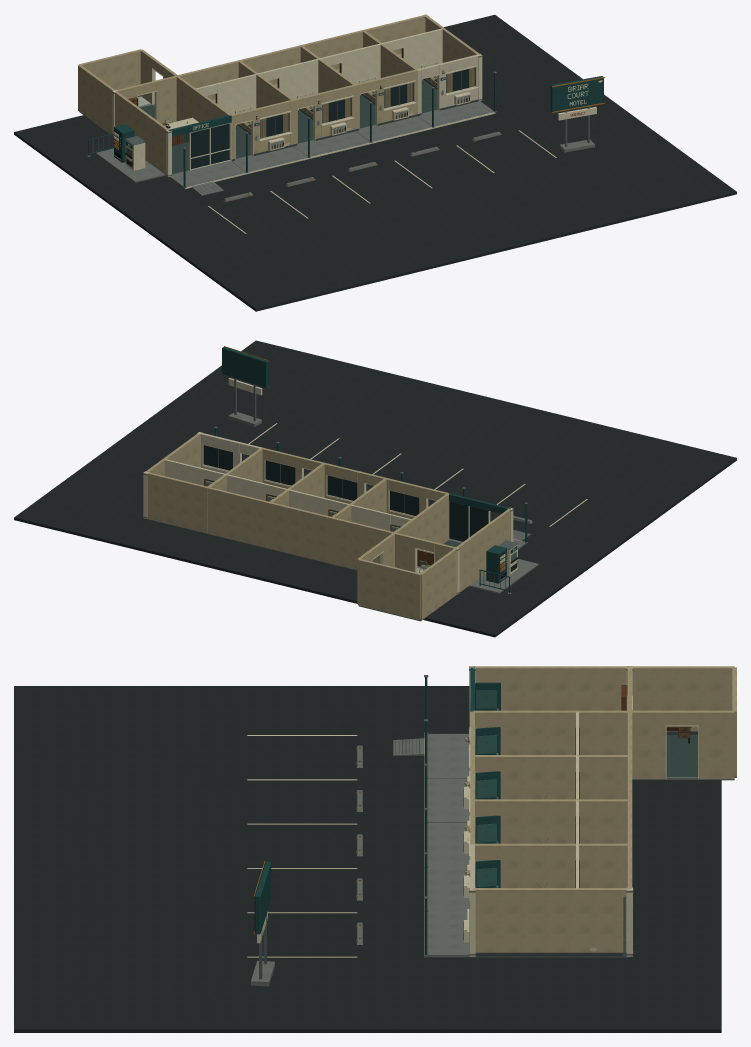
Rendered from motel_example_cutaway.glb.
The picture shows the model from 3 angles, top to bottom: view 1: azimuth 30°, elevation 25°; view 2: azimuth 150°, elevation 25°; view 3: azimuth 270°, elevation 25°; orthographic projection. The views are drawn at different scales.
Visible parts, largest first — view 1: SITE_asphalt_court, INSTANCE__roadside_sign__139, INSTANCE__lobby_glazed_facade__005, INSTANCE__end_wall_6m__103, INSTANCE__solid_wall_4m__129, INSTANCE__room_facade_4m__012, INSTANCE__room_facade_4m__036, INSTANCE__room_facade_4m__060, INSTANCE__solid_wall_4m__128, INSTANCE__room_facade_4m__084, INSTANCE__bathroom_partition_4m__043, INSTANCE__bathroom_partition_4m__019 (+26 smaller); view 2: SITE_asphalt_court, INSTANCE__solid_wall_4m__037, INSTANCE__solid_wall_4m__061, INSTANCE__solid_wall_4m__128, INSTANCE__solid_wall_4m__085, INSTANCE__roadside_sign__139, INSTANCE__end_wall_6m__103, INSTANCE__solid_wall_4m__013, INSTANCE__solid_wall_4m__129, INSTANCE__lobby_glazed_facade__005, INSTANCE__end_wall_6m__104, INSTANCE__service_doorway_4m__006 (+19 smaller); view 3: SITE_asphalt_court, INSTANCE__end_wall_6m__108, INSTANCE__end_wall_6m__104, INSTANCE__end_wall_6m__106, INSTANCE__end_wall_6m__107, INSTANCE__end_wall_6m__105, INSTANCE__end_wall_6m__103, INSTANCE__service_doorway_4m__130, INSTANCE__solid_wall_4m__129, INSTANCE__gallery_walkway_4m__003, INSTANCE__gallery_walkway_4m__082, INSTANCE__gallery_walkway_4m__034 (+9 smaller).
Boxes of the visible parts, left/top/right/bottom form: SITE_asphalt_court: left=14, top=15, right=736, bottom=311; INSTANCE__roadside_sign__139: left=550, top=76, right=604, bottom=152; INSTANCE__lobby_glazed_facade__005: left=168, top=115, right=231, bottom=171; INSTANCE__end_wall_6m__103: left=115, top=91, right=168, bottom=174; INSTANCE__solid_wall_4m__129: left=78, top=65, right=114, bottom=135; INSTANCE__room_facade_4m__012: left=231, top=100, right=293, bottom=161; INSTANCE__room_facade_4m__036: left=293, top=84, right=355, bottom=146; INSTANCE__room_facade_4m__060: left=355, top=69, right=417, bottom=130; INSTANCE__solid_wall_4m__128: left=78, top=49, right=141, bottom=96; INSTANCE__room_facade_4m__084: left=417, top=54, right=479, bottom=115; INSTANCE__bathroom_partition_4m__043: left=257, top=58, right=318, bottom=109; INSTANCE__bathroom_partition_4m__019: left=196, top=73, right=257, bottom=124; SITE_asphalt_court: left=14, top=340, right=736, bottom=637; INSTANCE__solid_wall_4m__037: left=269, top=502, right=332, bottom=563; INSTANCE__solid_wall_4m__061: left=207, top=487, right=270, bottom=548; INSTANCE__solid_wall_4m__128: left=358, top=558, right=420, bottom=620; INSTANCE__solid_wall_4m__085: left=147, top=472, right=208, bottom=533; INSTANCE__roadside_sign__139: left=222, top=346, right=269, bottom=426; INSTANCE__end_wall_6m__103: left=457, top=509, right=511, bottom=591; INSTANCE__solid_wall_4m__013: left=331, top=517, right=394, bottom=569; INSTANCE__solid_wall_4m__129: left=420, top=548, right=457, bottom=619; INSTANCE__lobby_glazed_facade__005: left=449, top=493, right=510, bottom=541; INSTANCE__end_wall_6m__104: left=394, top=493, right=449, bottom=543; INSTANCE__service_doorway_4m__006: left=394, top=532, right=456, bottom=572; SITE_asphalt_court: left=14, top=686, right=721, bottom=1032; INSTANCE__end_wall_6m__108: left=472, top=888, right=629, bottom=956; INSTANCE__end_wall_6m__104: left=472, top=710, right=629, bottom=754; INSTANCE__end_wall_6m__106: left=473, top=799, right=629, bottom=843; INSTANCE__end_wall_6m__107: left=473, top=843, right=629, bottom=887; INSTANCE__end_wall_6m__105: left=472, top=755, right=629, bottom=799; INSTANCE__end_wall_6m__103: left=472, top=666, right=629, bottom=710; INSTANCE__service_doorway_4m__130: left=630, top=710, right=734, bottom=779; INSTANCE__solid_wall_4m__129: left=630, top=666, right=734, bottom=734; INSTANCE__gallery_walkway_4m__003: left=424, top=733, right=469, bottom=777; INSTANCE__gallery_walkway_4m__082: left=424, top=911, right=472, bottom=957; INSTANCE__gallery_walkway_4m__034: left=424, top=822, right=469, bottom=866.
Size of the model in its own units: 31 by 4.27 by 27.59.
Materials: 111 (100 with a texture image).
